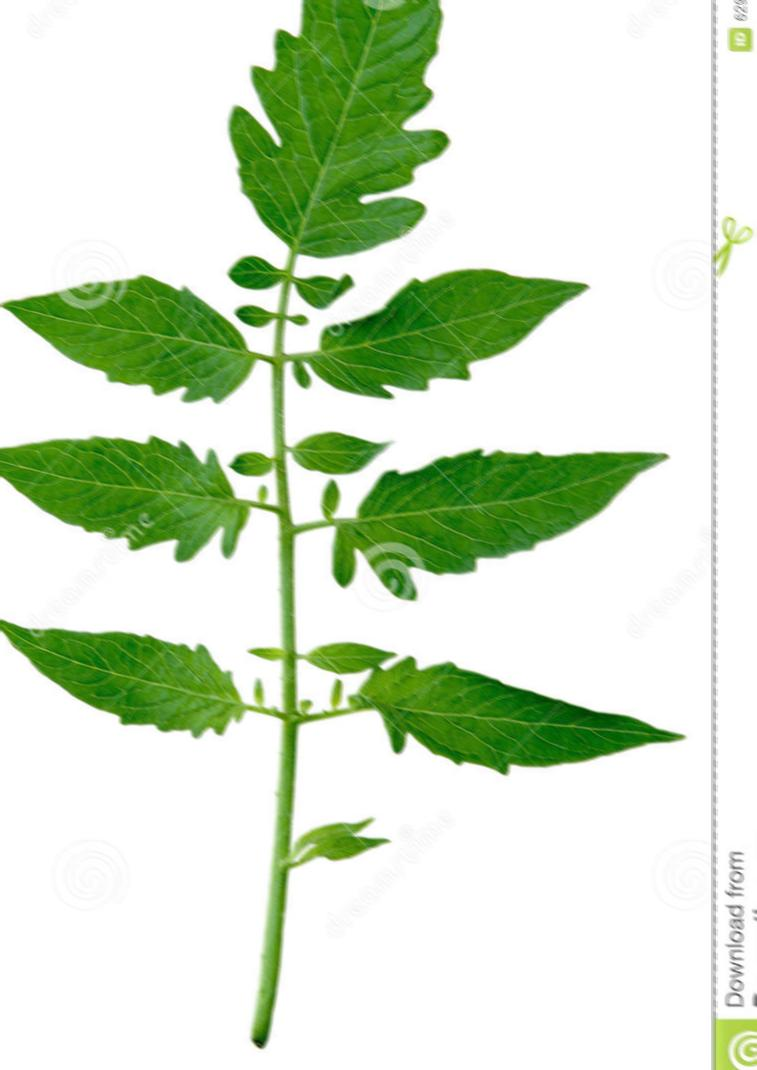Tomato leaf: (221, 0, 464, 274), (353, 420, 683, 610), (338, 635, 693, 805), (285, 263, 617, 422), (0, 586, 287, 763), (0, 418, 293, 571), (0, 250, 255, 407)
